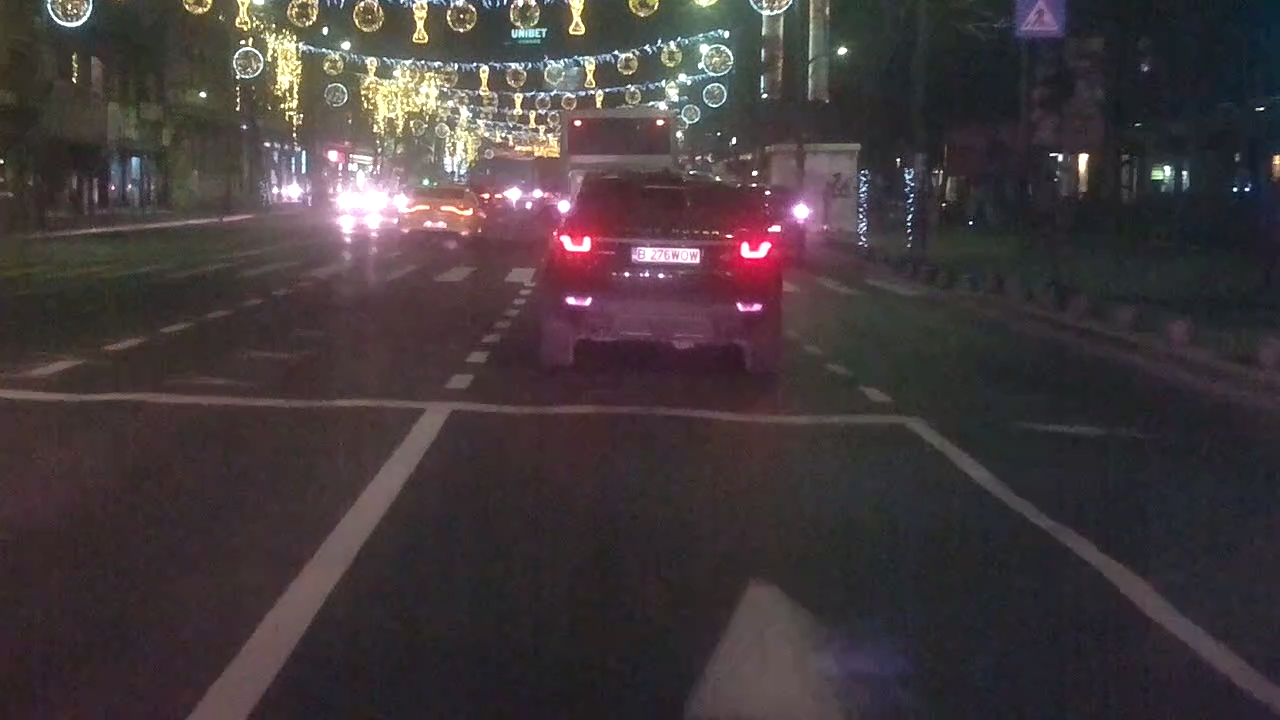license-plate: (628, 243, 703, 266)
